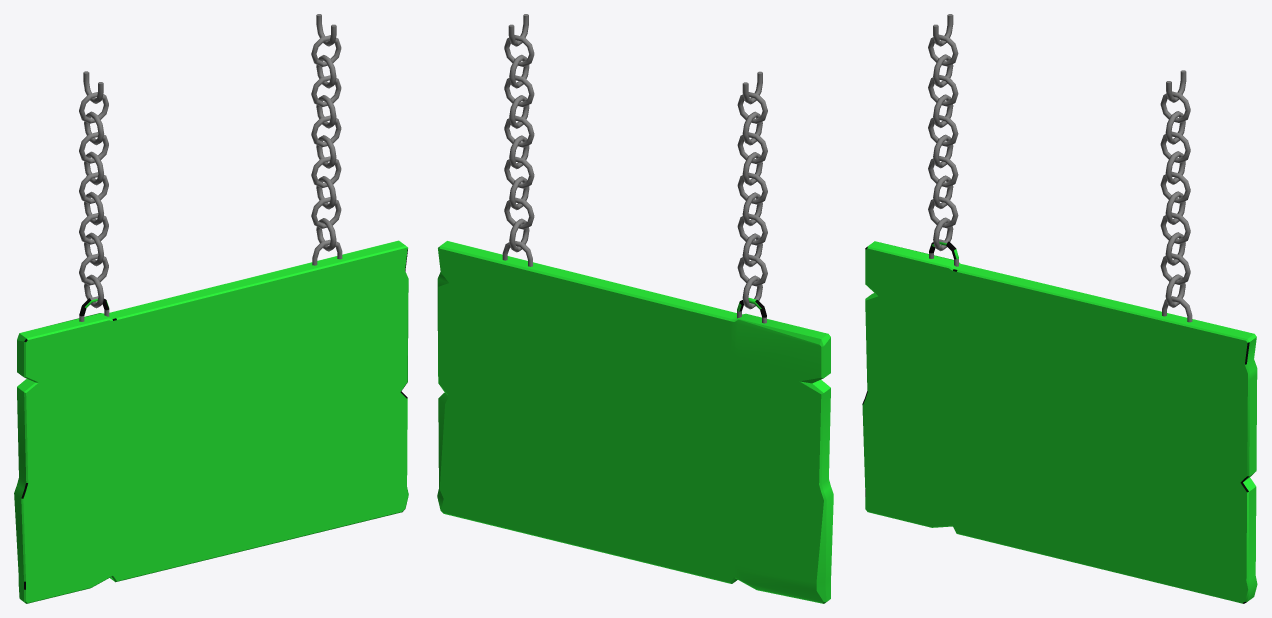
The model's file is SM_WoodSign 1.fbx.
3 views of the same model, side by side, from view 1: azimuth 30°, elevation 25°; view 2: azimuth 150°, elevation 25°; view 3: azimuth 330°, elevation 25° (orthographic).
Visible parts, largest first — view 1: Box001; view 2: Box001; view 3: Box001.
Boxes of the visible parts, x1,y1,x2,y2 form: Box001: [14, 239, 408, 603]; Box001: [437, 240, 833, 603]; Box001: [862, 239, 1257, 603].
Size of the model in its own units: 1.01 by 1.26 by 0.0792.
